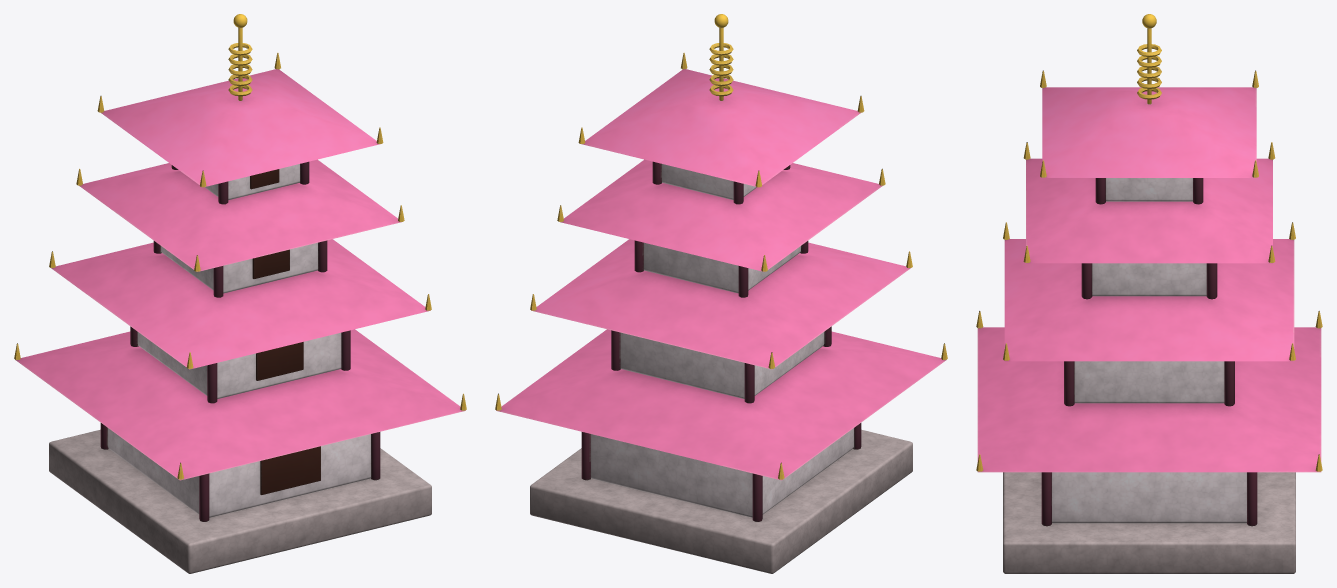
The model's file is cb_palace.glb.
3 views of the same model, side by side, from view 1: azimuth 30°, elevation 25°; view 2: azimuth 150°, elevation 25°; view 3: azimuth 270°, elevation 25° (orthographic). The views are drawn at different scales.
Visible parts, largest first — view 1: cb_palace; view 2: cb_palace; view 3: cb_palace.
Part boxes in pixels (bbox=[...]): cb_palace: bbox=[14, 14, 466, 573]; cb_palace: bbox=[495, 14, 947, 573]; cb_palace: bbox=[976, 14, 1322, 573].
Size of the model in its own units: 11.78 by 18.75 by 11.81.
6 materials, 6 textured.
